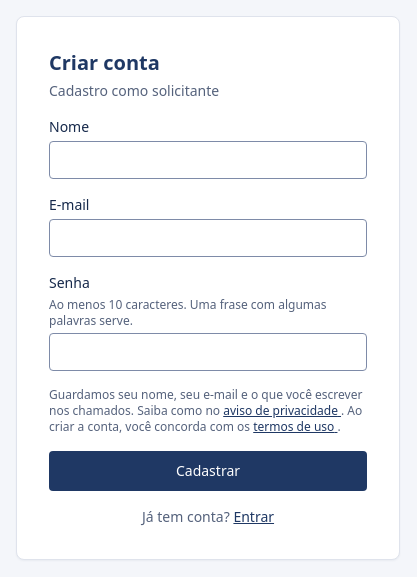
Test: Tela de cadastro › sem aprovação, diz que o pedido foi recebido e manda entrar: não afirma que a conta foi criada
Step 1. Type "Ana Souza" into the field labelled "Nome" → (208, 160), box 49,141 -> 367,179
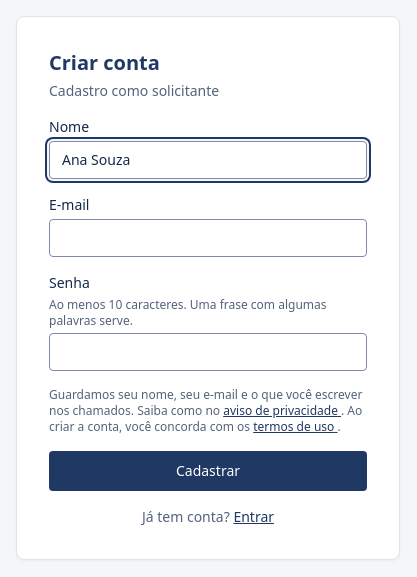
Step 2. Type "ana@exemplo.com" into the field labelled "E-mail" → (208, 238), box 49,219 -> 367,257
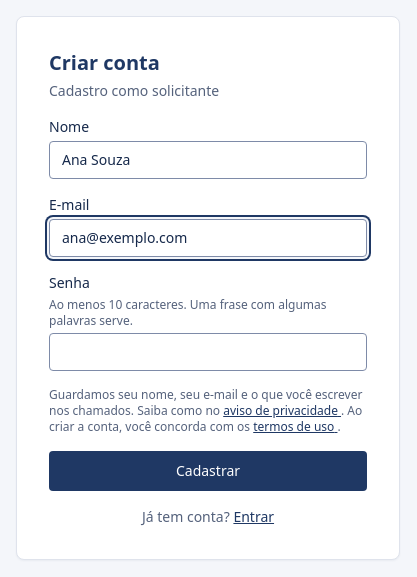
Step 3. Type "senha-teste-123" into the password field labelled "Senha" → (208, 352), box 49,333 -> 367,371
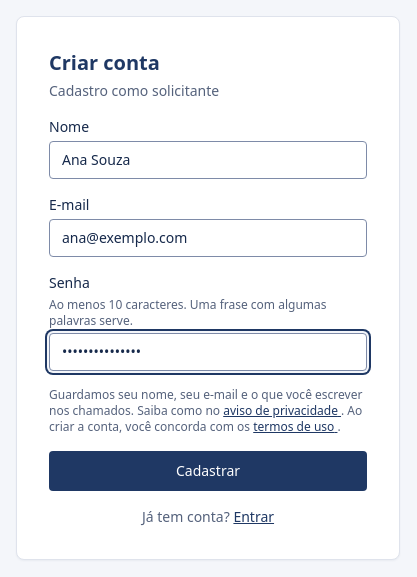
Step 4. Click the button "Cadastrar" → (208, 471), box 49,451 -> 367,491
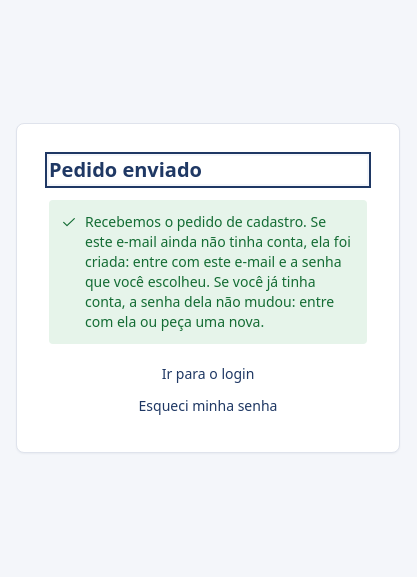
Expected: the heading "Pedido enviado" is shown, 49,156 -> 367,184
Expected: the text "entre com este e-mail e a senha que você escolheu" is shown, 85,212 -> 351,291
Expected: the text "Se você já tinha conta, a senha dela não mudou" is shown, 85,272 -> 334,331
